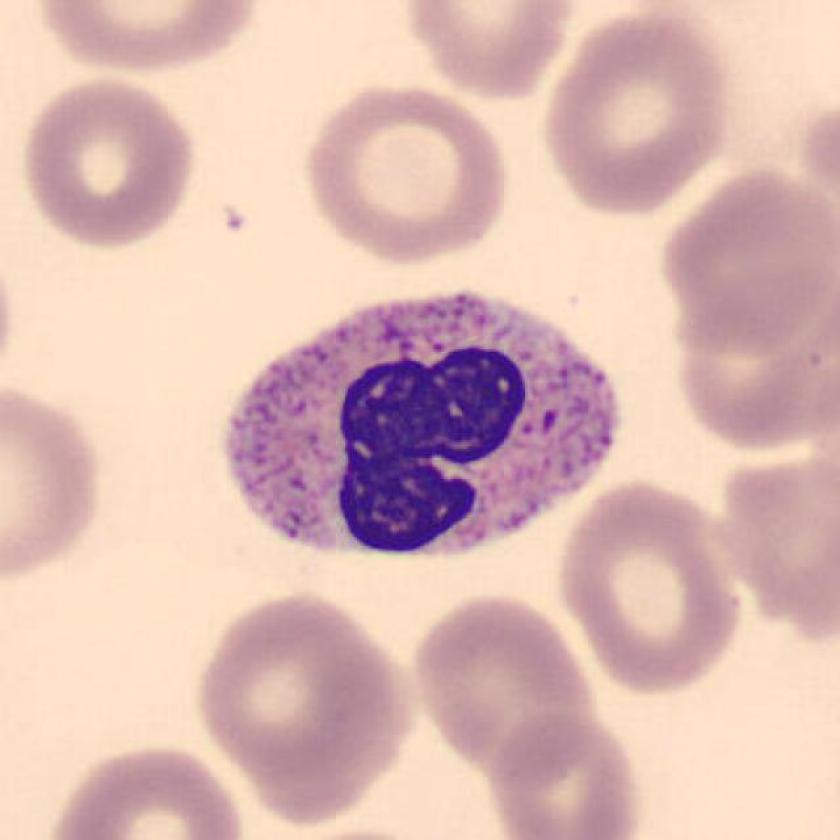neutrophil: (227, 294, 623, 556)
